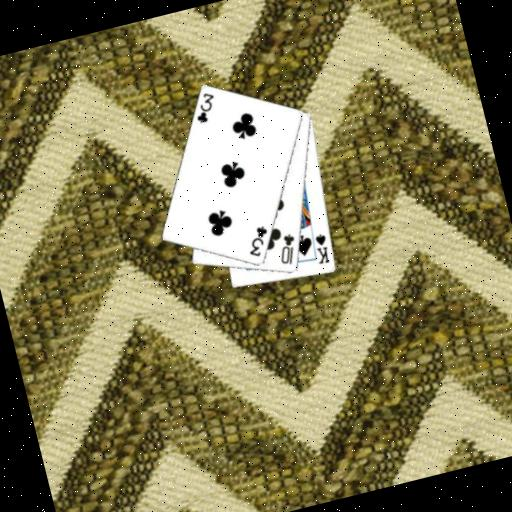10C: (272, 229, 303, 269)
3C: (241, 222, 275, 261), (188, 88, 222, 127)
KS: (309, 229, 334, 267)
